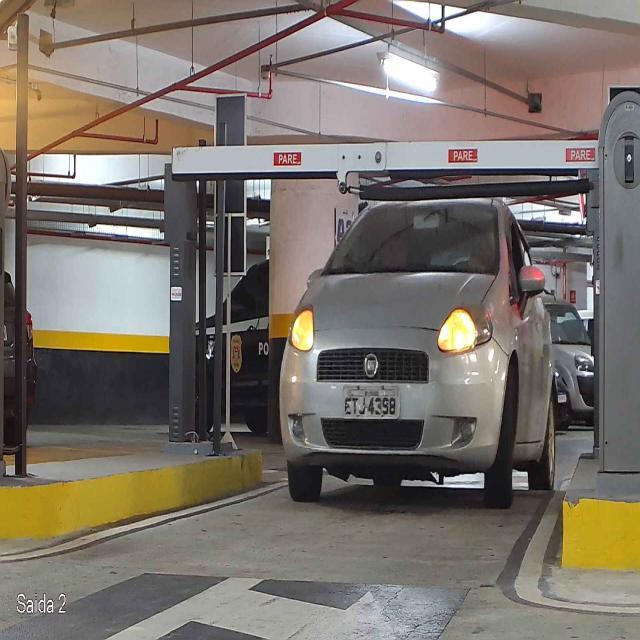old_plate: (342, 382, 402, 422)
